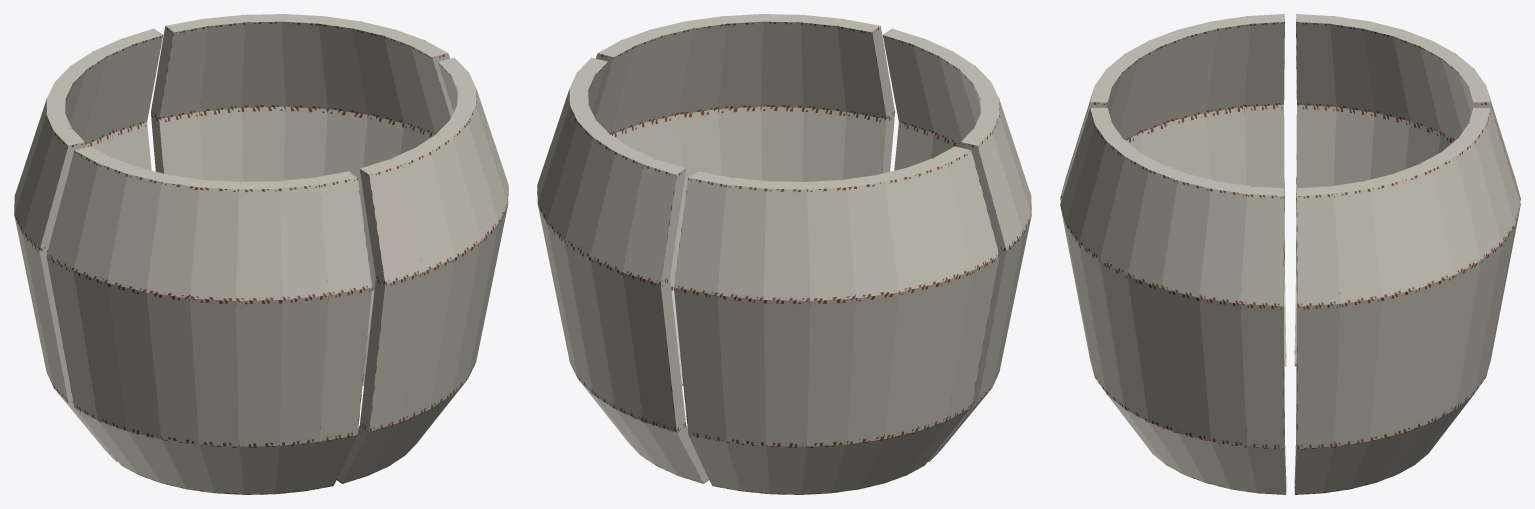
Rendered from PressureRunner_FragmentAssets.fbx.
3 renders of one model, left to right at view 1: azimuth 30°, elevation 25°; view 2: azimuth 150°, elevation 25°; view 3: azimuth 270°, elevation 25°, orthographic.
Parts seen in each view (by area): view 1: SM_PressureRunner_Fragment_2, SM_PressureRunner_Fragment_0, SM_PressureRunner_Fragment_3, SM_PressureRunner_Fragment_1; view 2: SM_PressureRunner_Fragment_1, SM_PressureRunner_Fragment_3, SM_PressureRunner_Fragment_0, SM_PressureRunner_Fragment_2; view 3: SM_PressureRunner_Fragment_0, SM_PressureRunner_Fragment_3, SM_PressureRunner_Fragment_1, SM_PressureRunner_Fragment_2.
Part boxes in pixels (x1=…): SM_PressureRunner_Fragment_2: x1=46, y1=146, x2=371, y2=494; SM_PressureRunner_Fragment_0: x1=151, y1=14, x2=453, y2=385; SM_PressureRunner_Fragment_3: x1=336, y1=57, x2=508, y2=483; SM_PressureRunner_Fragment_1: x1=14, y1=28, x2=163, y2=461; SM_PressureRunner_Fragment_1: x1=674, y1=146, x2=999, y2=494; SM_PressureRunner_Fragment_3: x1=592, y1=14, x2=894, y2=385; SM_PressureRunner_Fragment_0: x1=537, y1=57, x2=709, y2=483; SM_PressureRunner_Fragment_2: x1=882, y1=28, x2=1031, y2=461; SM_PressureRunner_Fragment_0: x1=1294, y1=107, x2=1520, y2=494; SM_PressureRunner_Fragment_3: x1=1060, y1=107, x2=1286, y2=494; SM_PressureRunner_Fragment_1: x1=1294, y1=14, x2=1520, y2=366; SM_PressureRunner_Fragment_2: x1=1060, y1=14, x2=1286, y2=366.
Size of the model in its own units: 103 by 73.48 by 95.43.
